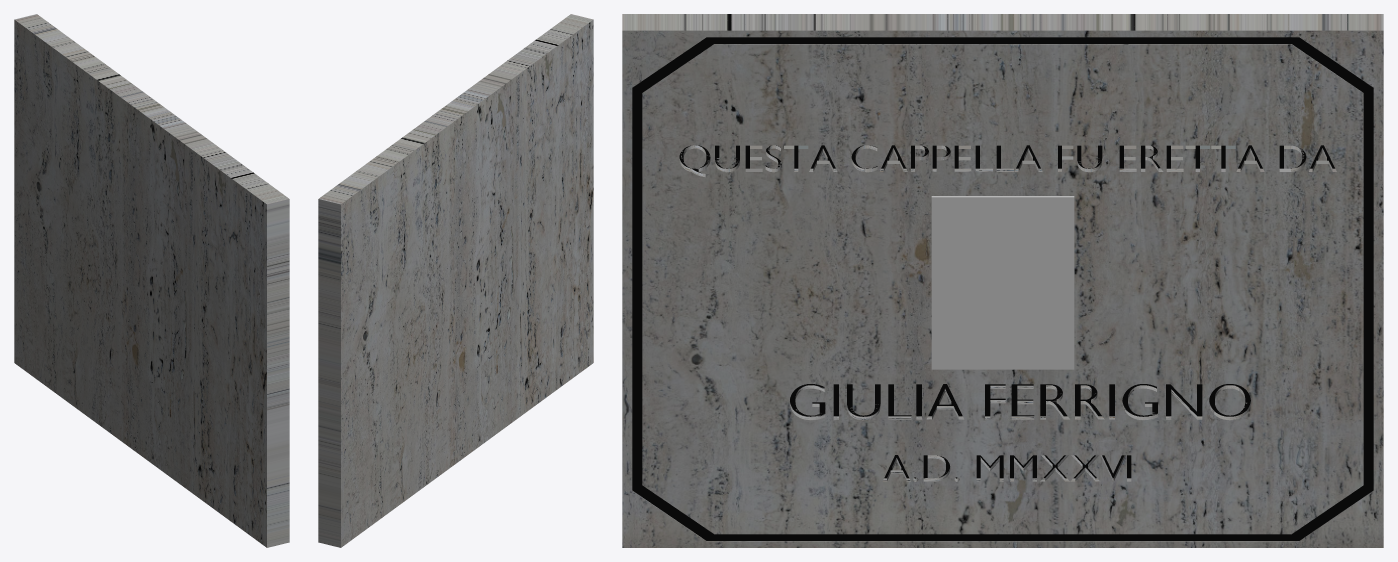
File: targa.obj
The picture shows the model from 3 angles, left to right: view 1: azimuth 30°, elevation 25°; view 2: azimuth 150°, elevation 25°; view 3: azimuth 270°, elevation 25°; orthographic projection. The views are drawn at different scales.
Parts seen in each view (by area): view 1: Targa_Mesh; view 2: Targa_Mesh; view 3: Targa_Mesh, Immagine_Mesh.
Boxes of the visible parts, <box> form: Targa_Mesh: <box>14,14,289,547</box>; Targa_Mesh: <box>318,14,593,547</box>; Targa_Mesh: <box>622,14,1383,547</box>; Immagine_Mesh: <box>931,196,1074,369</box>.
Size of the model in its own units: 0.479 by 6 by 8.
